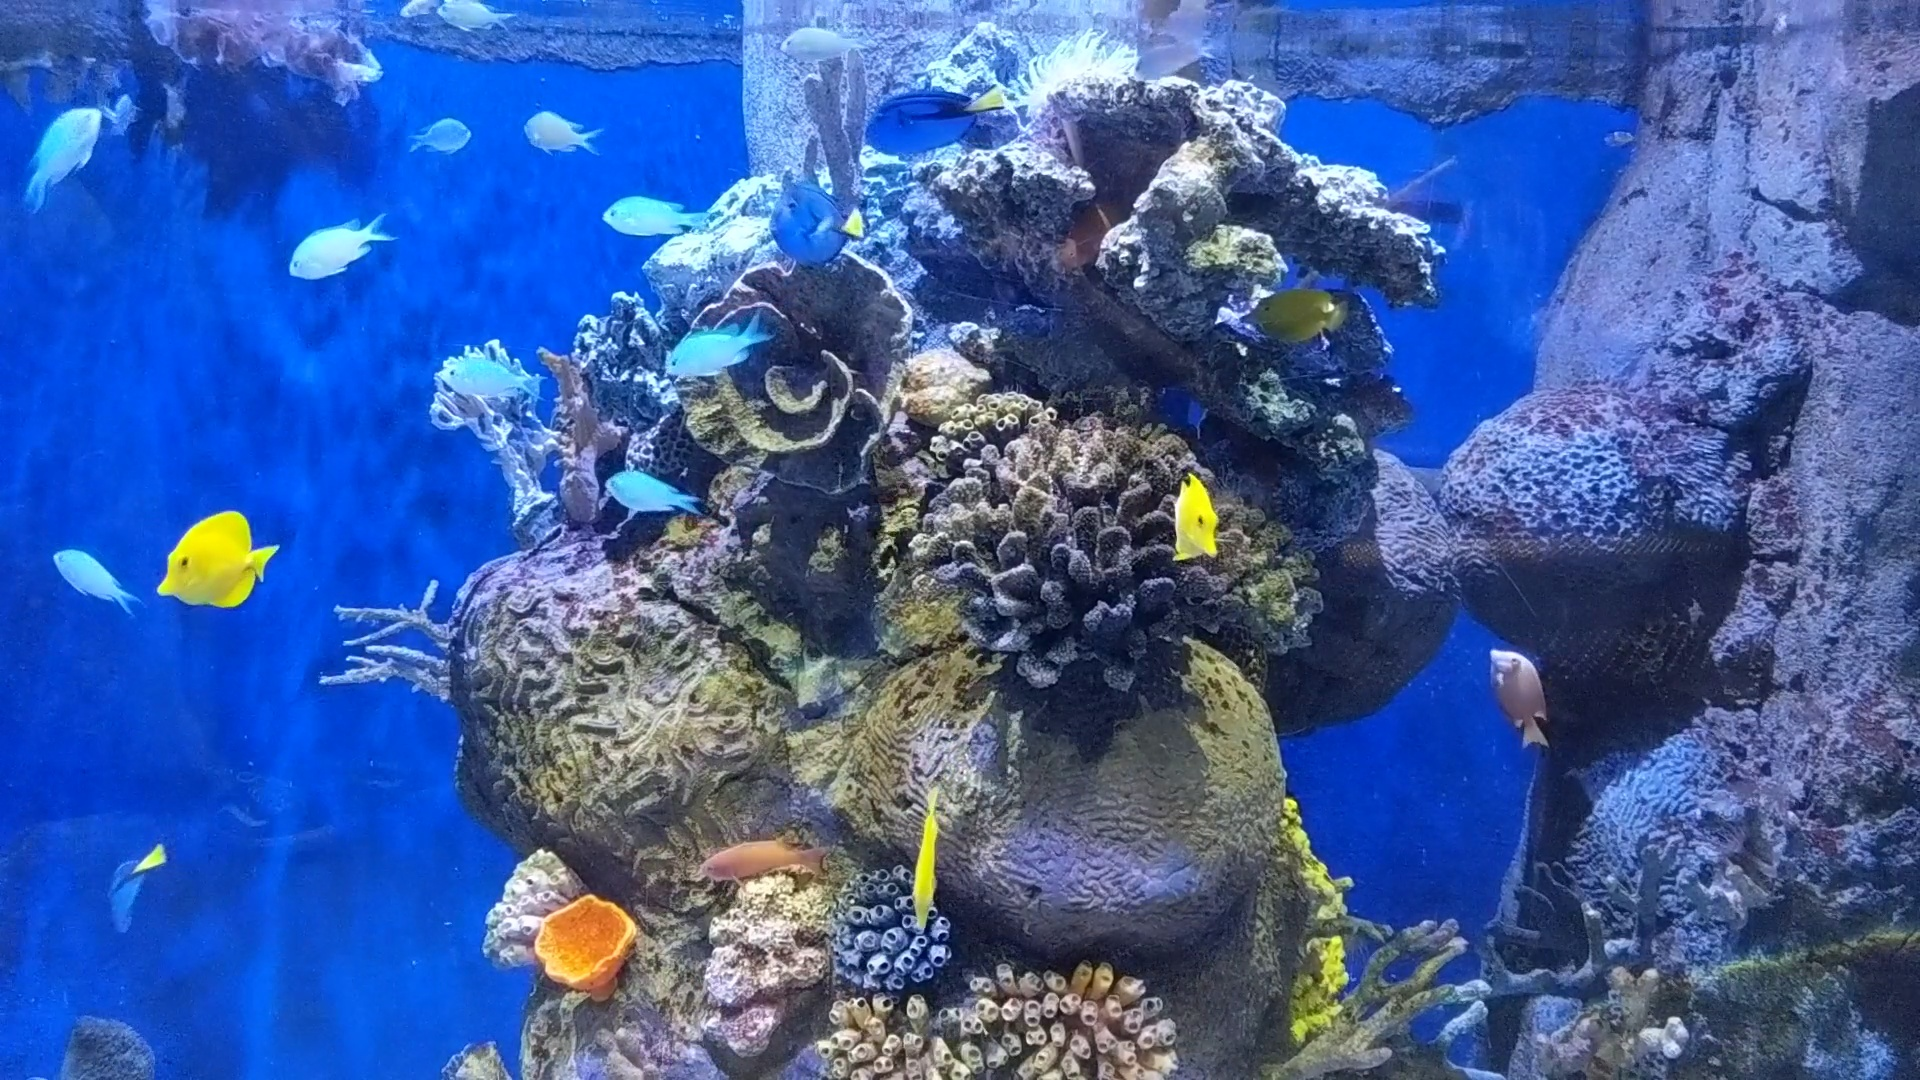blue tang surgeonfish: (742, 169, 881, 276), (851, 80, 1004, 153), (87, 841, 182, 949)
damselfish: (3, 91, 115, 218), (264, 193, 406, 291), (582, 187, 727, 251), (585, 452, 707, 526), (650, 314, 761, 392), (426, 348, 549, 414), (512, 88, 612, 167), (40, 545, 138, 622), (390, 99, 477, 167), (769, 15, 869, 73), (1124, 29, 1217, 80), (430, 0, 518, 33)
pink fish: (1472, 628, 1575, 754)
saddle butterfly fish: (135, 510, 286, 612), (885, 785, 961, 939), (1151, 450, 1232, 584), (1250, 280, 1350, 348)
